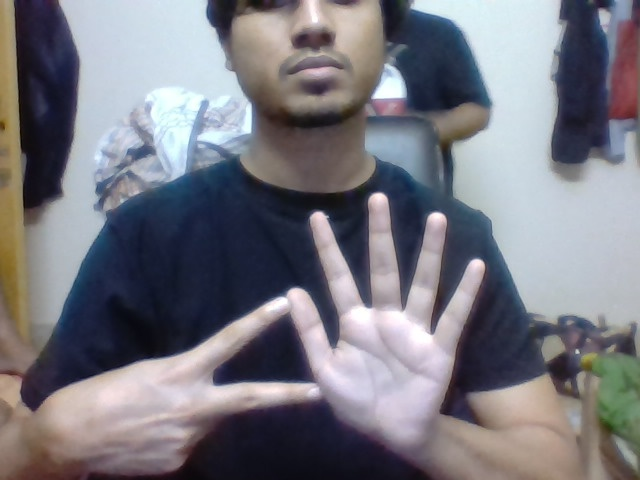N: (186, 293, 291, 416)
